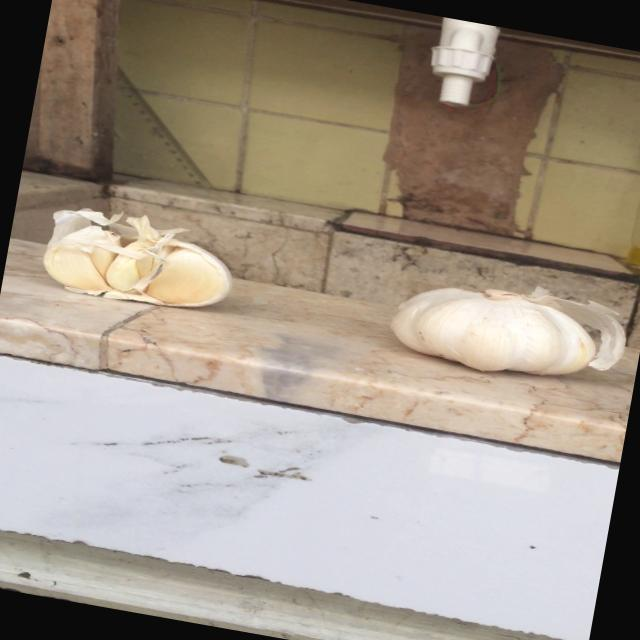garlic: (380, 260, 636, 396), (31, 198, 243, 320)
